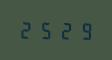five: (36, 19, 53, 39)
nine: (72, 20, 89, 40)
two: (54, 19, 71, 40), (18, 19, 35, 39)
